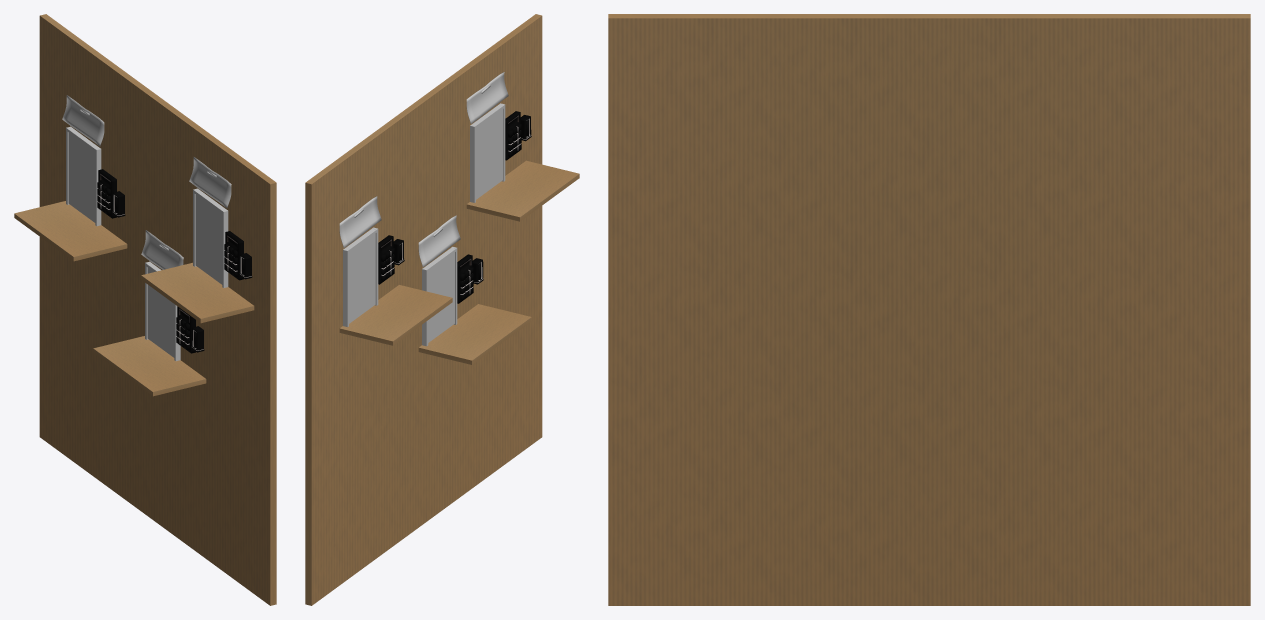
Rendered from lvl_3_3_doors.fbx.
The picture shows the model from 3 angles, left to right: view 1: azimuth 30°, elevation 25°; view 2: azimuth 150°, elevation 25°; view 3: azimuth 270°, elevation 25°; orthographic projection. The views are drawn at different scales.
Visible parts, largest first — view 1: Cube__2_, Platform_2, Platform, Platform_1, Door3, Door1, Door2, ExitSign, ExitSign_2, ExitSign_1, Outline_11, Outline_3 (+3 smaller); view 2: Cube__2_, Platform, Platform_1, Platform_2, Door1, Door3, Door2, ExitSign_1, ExitSign, ExitSign_2, Outline_11, Outline_7 (+3 smaller); view 3: Cube__2_.
Part boxes in pixels (x1=…): Cube__2_: x1=39, y1=14, x2=276, y2=605; Platform_2: x1=141, y1=262, x2=254, y2=323; Platform: x1=14, y1=201, x2=127, y2=261; Platform_1: x1=93, y1=336, x2=206, y2=396; Door3: x1=195, y1=194, x2=222, y2=284; Door1: x1=68, y1=133, x2=95, y2=222; Door2: x1=147, y1=267, x2=174, y2=357; ExitSign: x1=62, y1=95, x2=104, y2=146; ExitSign_2: x1=189, y1=157, x2=231, y2=207; ExitSign_1: x1=141, y1=230, x2=183, y2=269; Outline_11: x1=224, y1=231, x2=243, y2=280; Outline_3: x1=97, y1=169, x2=116, y2=218; Cube__2_: x1=305, y1=14, x2=542, y2=605; Platform: x1=339, y1=285, x2=452, y2=345; Platform_1: x1=418, y1=304, x2=531, y2=364; Platform_2: x1=466, y1=160, x2=579, y2=221; Door1: x1=349, y1=233, x2=375, y2=323; Door3: x1=476, y1=109, x2=502, y2=199; Door2: x1=428, y1=252, x2=454, y2=342; ExitSign_1: x1=418, y1=215, x2=460, y2=267; ExitSign: x1=339, y1=196, x2=381, y2=247; ExitSign_2: x1=466, y1=72, x2=508, y2=123; Outline_11: x1=505, y1=111, x2=521, y2=160; Outline_7: x1=457, y1=254, x2=473, y2=303; Cube__2_: x1=608, y1=14, x2=1250, y2=605.
Bounding box in the file's own units: 300 × 2018 × 2000.
